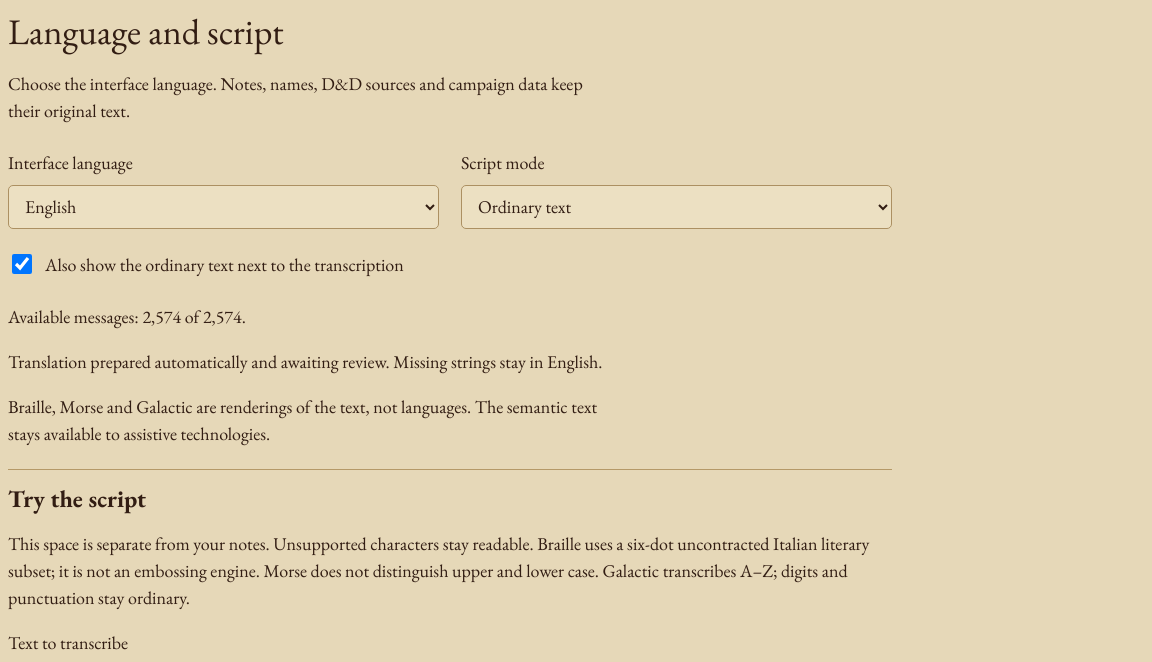
Test: failed saving preserves the previous language and shows an error
Step 1. Select "Italiano" in the dropdown labelled "Interface language" → (224, 207), box top-left (8, 185), bottom-right (439, 229)
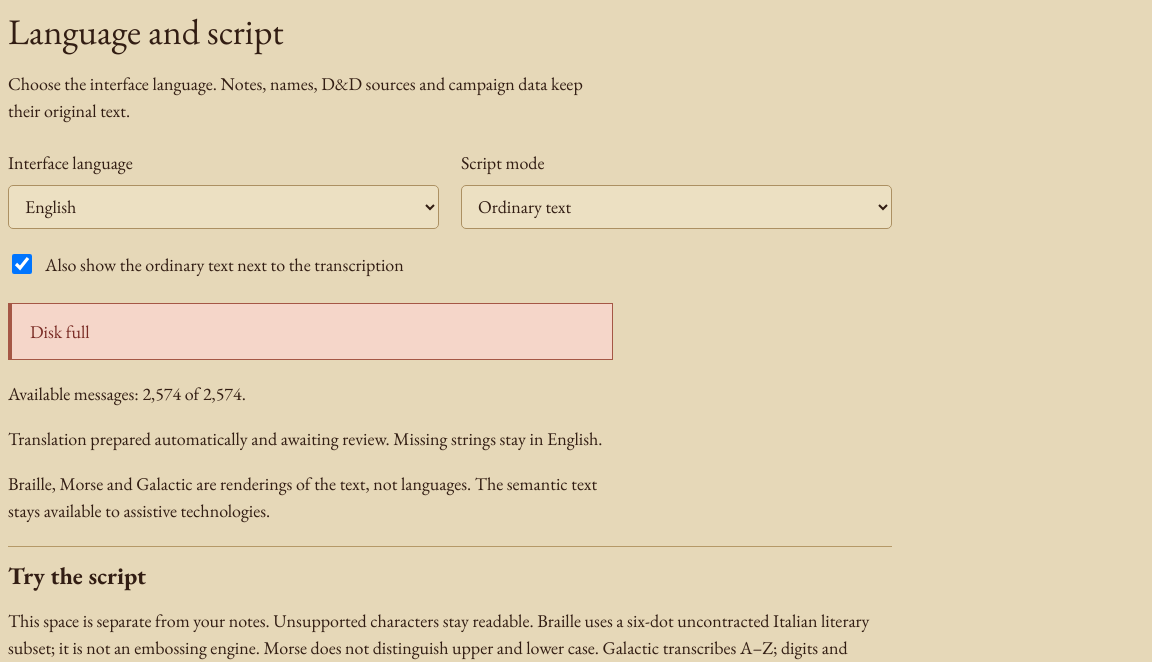
Check: the message "Disk full" is shown, box top-left (8, 303), bottom-right (613, 360)
